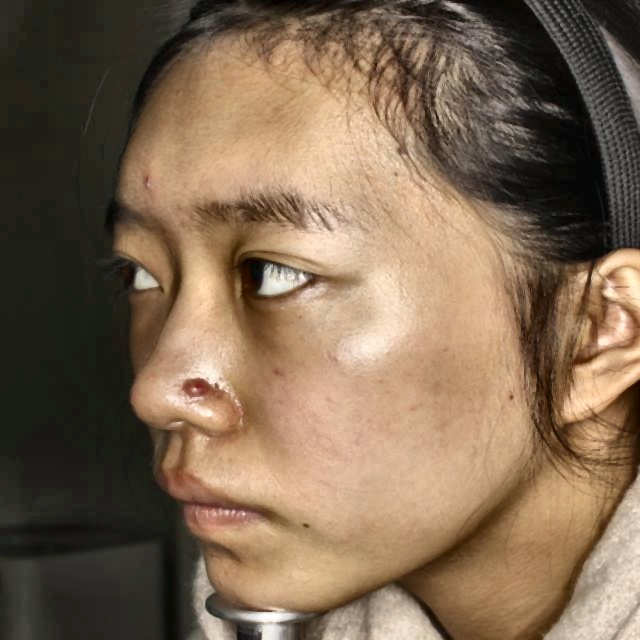comedone: (178, 368, 212, 400), (134, 171, 169, 194)
